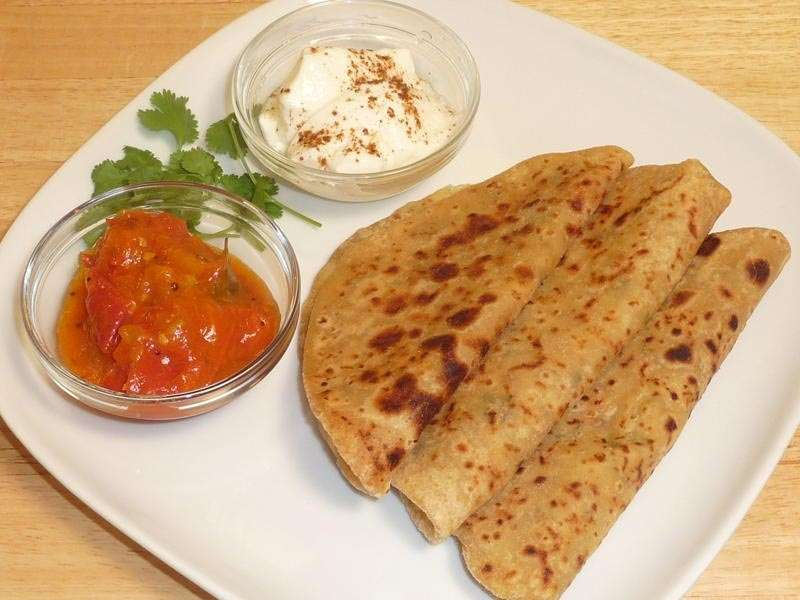aloo_paratha: (298, 147, 797, 600)
